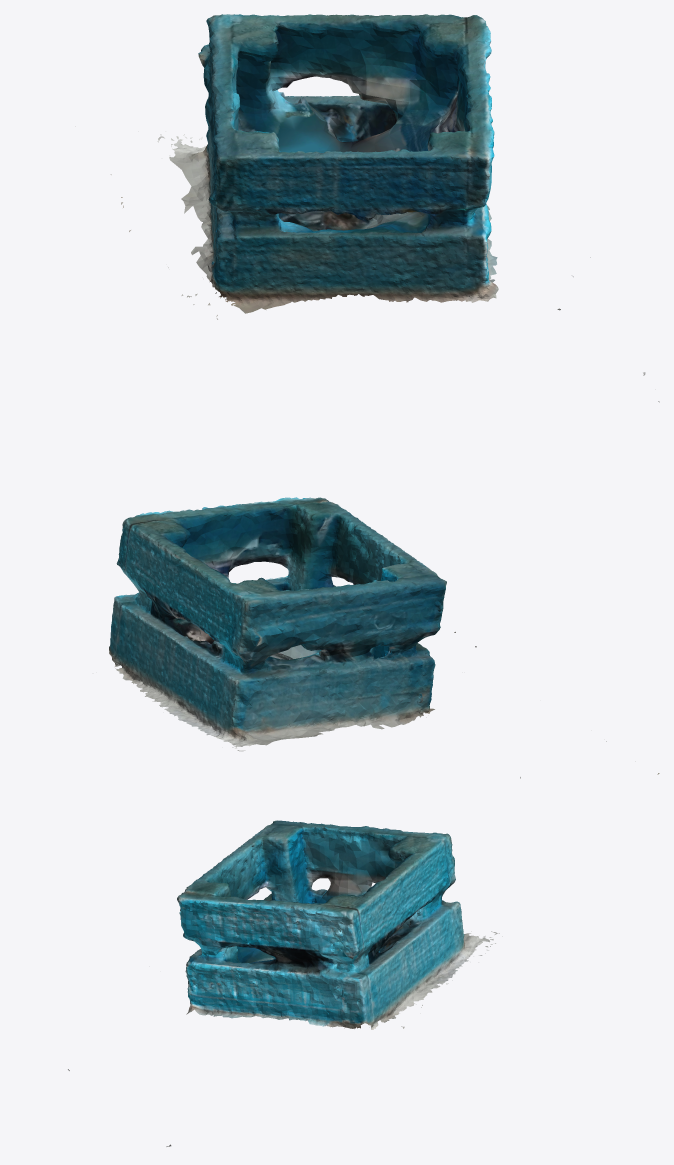
The model's file is prac7.glb.
3 views of the same model, one above another, from view 1: azimuth 30°, elevation 25°; view 2: azimuth 150°, elevation 25°; view 3: azimuth 270°, elevation 25° (orthographic). The views are drawn at different scales.
Bounding box in the file's own units: 21.09 × 9.19 × 24.59.
Materials: 1 (1 with a texture image).
